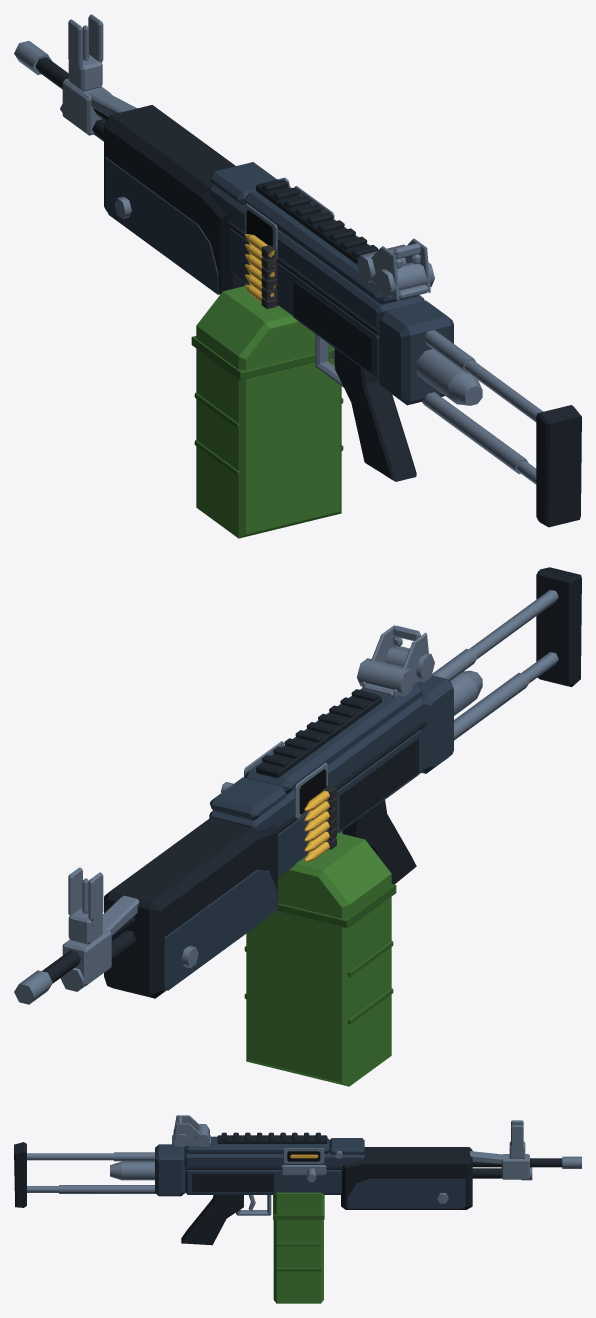
File: lmg.glb
3 renders of one model, top to bottom at view 1: azimuth 30°, elevation 25°; view 2: azimuth 150°, elevation 25°; view 3: azimuth 270°, elevation 25°, orthographic. The views are drawn at different scales.
Visible parts, largest first — view 1: mag_trim_ammobox, body_dark_furniture, body_metal_receiver, body_trim_steel, cover_dark_furniture, cover_metal_receiver, mag_trim_ammolid, mag_trim_brass, mag_trim_link; view 2: mag_trim_ammobox, body_dark_furniture, body_metal_receiver, body_trim_steel, cover_dark_furniture, cover_metal_receiver, mag_trim_ammolid, mag_trim_brass; view 3: body_dark_furniture, body_metal_receiver, body_trim_steel, mag_trim_ammobox, cover_metal_receiver, cover_dark_furniture, mag_trim_ammolid, body_trim_hole.
Boxes of the visible parts, left/top/right/bottom form: mag_trim_ammobox: left=196, top=285, right=341, bottom=538; body_dark_furniture: left=35, top=57, right=581, bottom=527; body_metal_receiver: left=105, top=157, right=453, bottom=405; body_trim_steel: left=14, top=14, right=543, bottom=484; cover_dark_furniture: left=256, top=179, right=378, bottom=264; cover_metal_receiver: left=244, top=186, right=417, bottom=304; mag_trim_ammolid: left=191, top=336, right=343, bottom=476; mag_trim_brass: left=245, top=234, right=276, bottom=306; mag_trim_link: left=261, top=245, right=277, bottom=308; mag_trim_ammobox: left=246, top=833, right=391, bottom=1086; body_dark_furniture: left=42, top=567, right=581, bottom=998; body_metal_receiver: left=164, top=675, right=453, bottom=990; body_trim_steel: left=14, top=589, right=558, bottom=1004; cover_dark_furniture: left=256, top=689, right=381, bottom=778; cover_metal_receiver: left=244, top=682, right=422, bottom=794; mag_trim_ammolid: left=244, top=884, right=396, bottom=1024; mag_trim_brass: left=304, top=790, right=329, bottom=861; body_dark_furniture: left=14, top=1142, right=562, bottom=1245; body_metal_receiver: left=155, top=1138, right=465, bottom=1208; body_trim_steel: left=27, top=1115, right=581, bottom=1215; mag_trim_ammobox: left=273, top=1192, right=323, bottom=1303; cover_metal_receiver: left=185, top=1136, right=329, bottom=1153; cover_dark_furniture: left=217, top=1132, right=327, bottom=1143; mag_trim_ammolid: left=273, top=1195, right=324, bottom=1271; body_trim_hole: left=287, top=1151, right=320, bottom=1161.
Bounding box in the file's own units: 0.168 × 0.4173 × 1.2.
